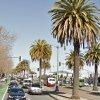Palm tree: (45, 0, 99, 86)
